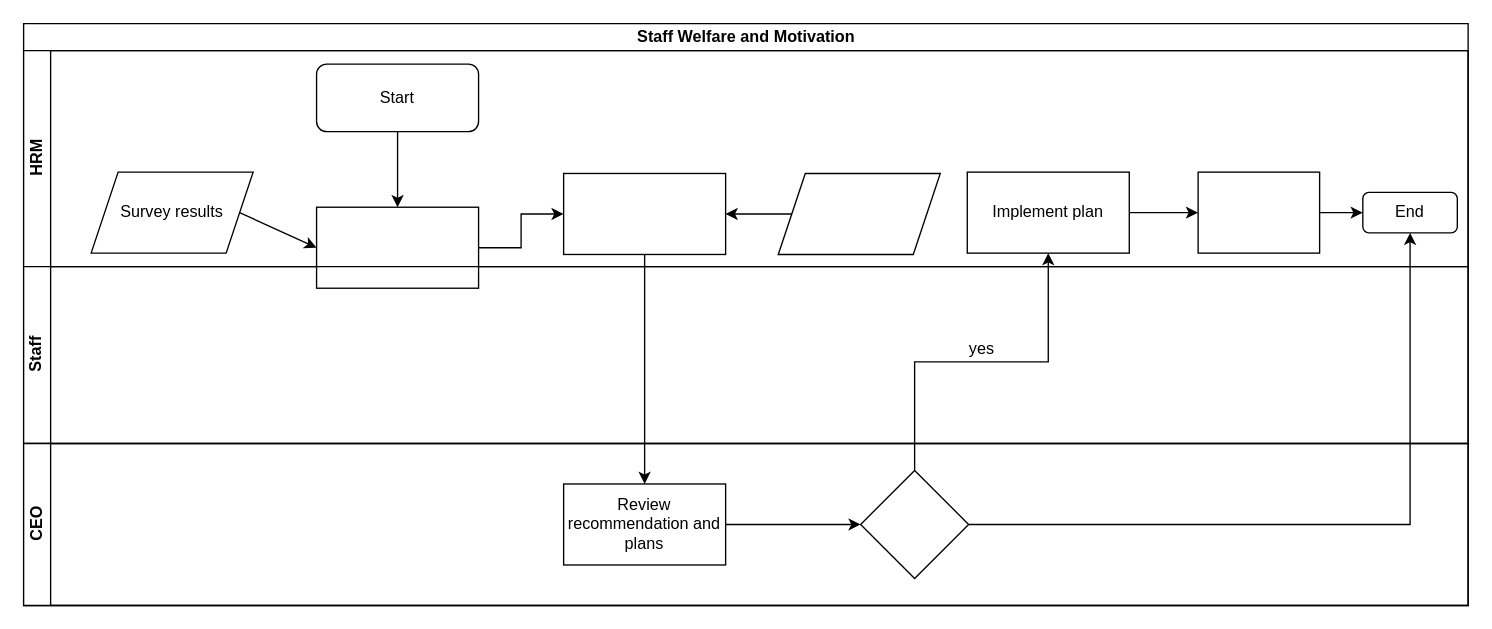
Image size: 1492x629. Some labels were removed from this diagram. Each missing label, with the centre of its shape:
"Approved?" belongs at (x=914, y=523).
"Cost implications" belongs at (x=858, y=213).
"Evaluate effects of plan implementation" belongs at (x=1258, y=212).
"Monitor issues affecting staff" belongs at (x=397, y=247).
"Prepare report on survey recommendations" belongs at (x=644, y=213).
